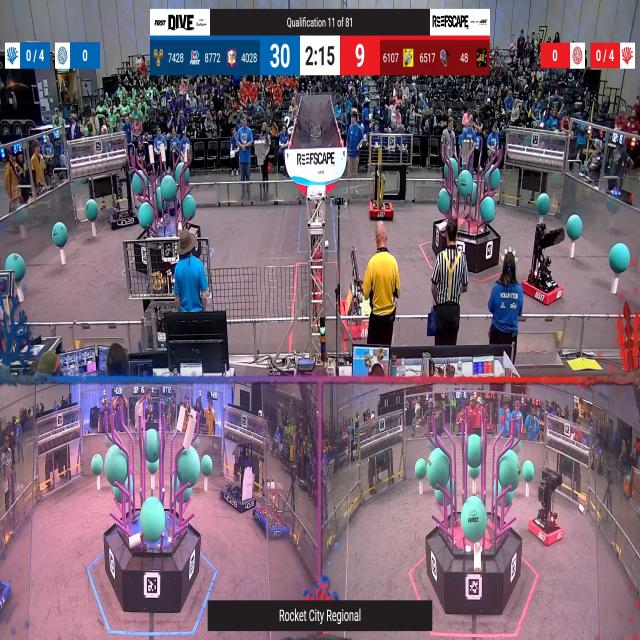scoreboard: (150, 35, 490, 74)
